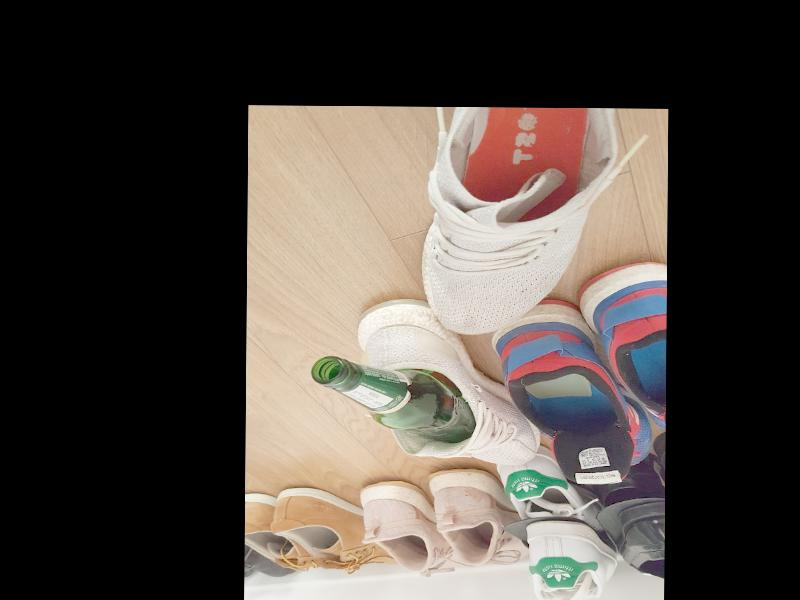Beer: (310, 356, 477, 446)
